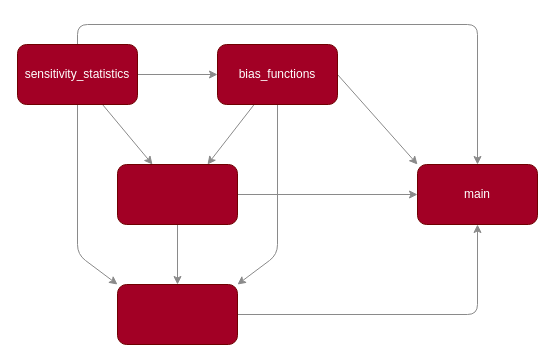
The diagram is 555 pixels wide and 362 high, and some of its shapes have lost their labels. The shapes that lost their labels are listed below. From the top down, each one's centre as x and y in pixels, then its label:
At point (177, 194): "sensitivity_bounds".
At point (177, 314): "sensitivity_plots".
